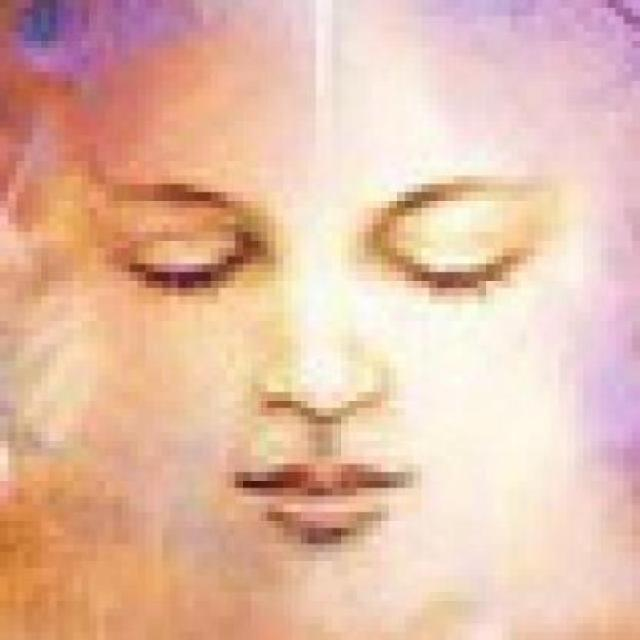drowsy: (121, 235, 237, 299), (390, 241, 512, 301)
